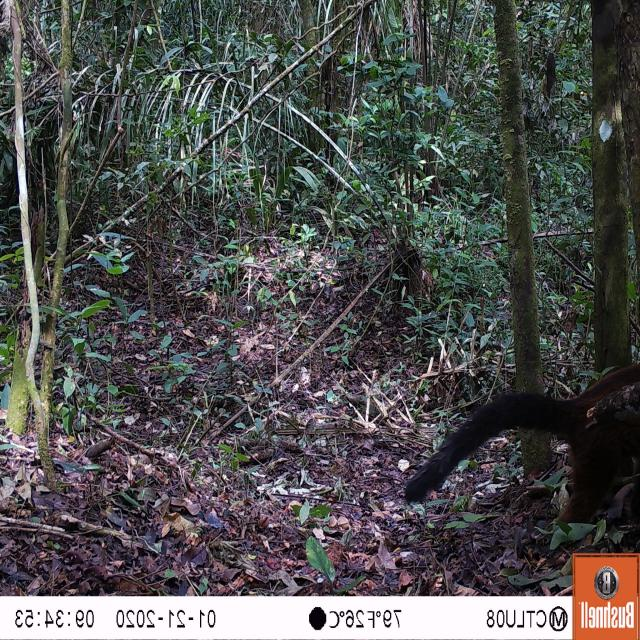South American Coati: (394, 359, 640, 531)
